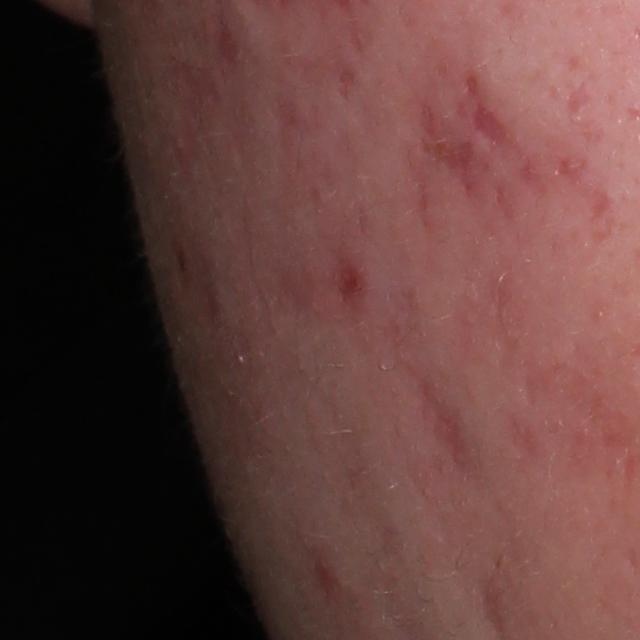atrophic_scar: (420, 373, 478, 475), (421, 110, 478, 192), (317, 243, 369, 311), (175, 68, 224, 131), (475, 575, 510, 636), (473, 109, 516, 149), (546, 150, 590, 188), (556, 87, 596, 125), (460, 68, 485, 103)
